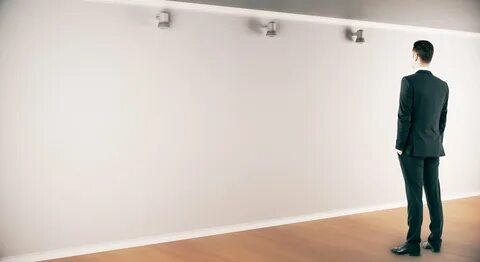awake: (389, 39, 450, 256)
